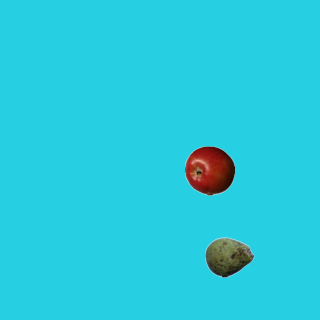Apple Braeburn: (184, 145, 234, 195)
Pear Stone: (204, 232, 254, 282)
